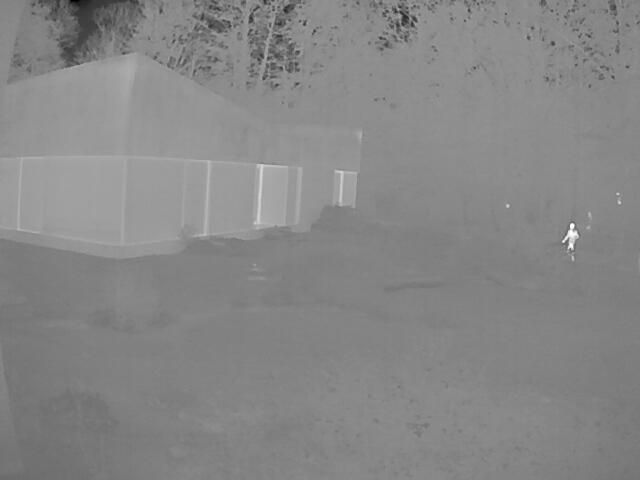person: (562, 222, 579, 260)
